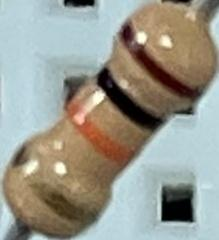Black: (90, 62, 167, 137)
Brown: (112, 17, 205, 111)
Orange: (60, 96, 138, 172)
Side-Gold: (6, 146, 103, 229)
